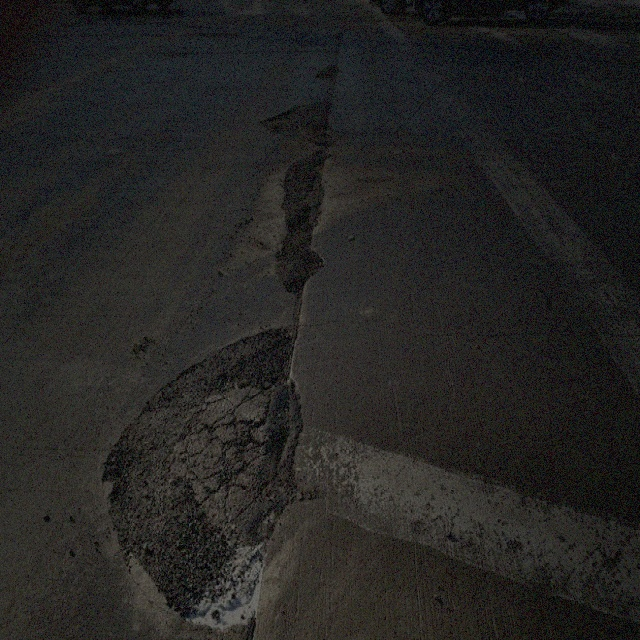pothole: (98, 326, 305, 603), (268, 160, 328, 304), (261, 94, 326, 152)
